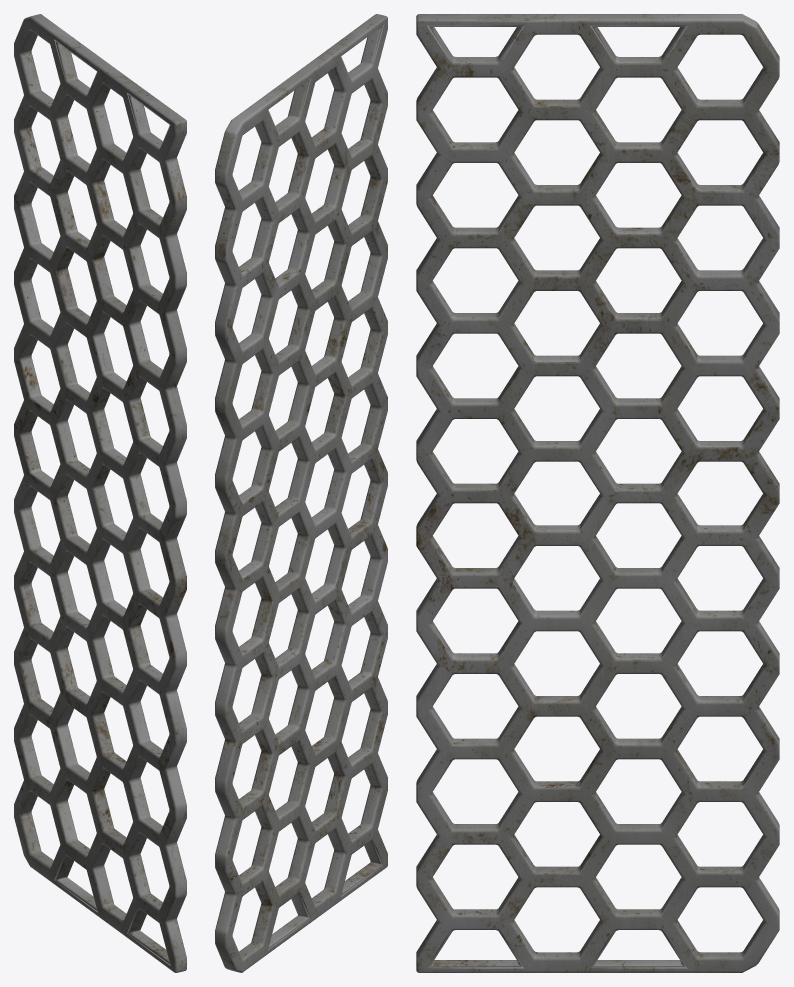
File: valla.fbx
3 views of the same model, side by side, from view 1: azimuth 30°, elevation 25°; view 2: azimuth 150°, elevation 25°; view 3: azimuth 270°, elevation 25° (orthographic). The views are drawn at different scales.
Parts seen in each view (by area): view 1: HoneyComb; view 2: HoneyComb; view 3: HoneyComb.
Boxes of the visible parts, box(x1,y1,x2,y2) form: HoneyComb: box(14, 14, 186, 972); HoneyComb: box(215, 14, 387, 972); HoneyComb: box(416, 14, 779, 972).
Size of the model in its own units: 15 by 967 by 334.
